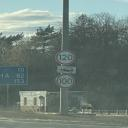speed_limit_100: (56, 72, 76, 90)
speed_limit_120: (54, 50, 77, 66)
